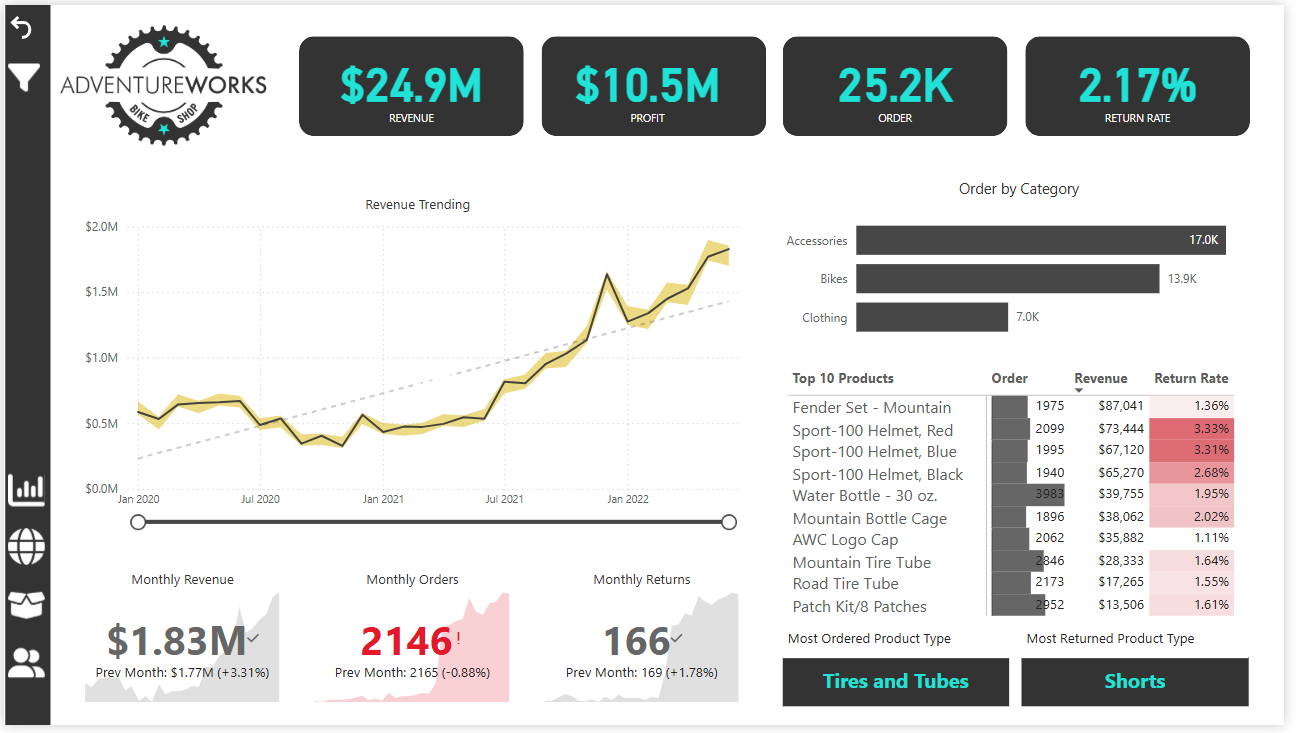

The dashboard page shown, as its layout file describes it:
{"tool":"powerbi","page":{"name":"Exec Dashboard","canvas":[1280,720],"ordinal":0},"visuals":[{"type":"card","fields":{"Values":["Measure Table.Total Revenue"]},"box":[267.5,6.2,280,150],"z":0,"group":"g2"},{"type":"image","title":"AW Logo","box":[20,12.5,280,136.2],"z":0},{"type":"group","id":"g1","title":"KPI Background","box":[295,31.2,951.2,100],"z":0,"group":"g3"},{"type":"shape","box":[537.1,31.2,225,100],"z":0,"group":"g1"},{"type":"actionButton","box":[0,461.2,45.2,47.7],"z":0,"group":"g4"},{"type":"shape","title":"Left Nav","box":[1.2,0,45.2,720.2],"z":1000},{"type":"group","id":"g2","title":"KPI Values","box":[267.5,6.2,1006.2,150],"z":1000,"group":"g3"},{"type":"card","fields":{"Values":["Measure Table.Total Profit"]},"box":[503.7,6.2,280,150],"z":1000,"group":"g2"},{"type":"shape","box":[779.2,31.2,225,100],"z":1000,"group":"g1"},{"type":"actionButton","box":[407.9,297.6,45.2,47.7],"z":1000,"group":"g5"},{"type":"actionButton","box":[0,517.5,45.2,47.7],"z":1000,"group":"g4"},{"type":"group","id":"g3","title":"KPI","box":[267.5,6.2,1006.2,150],"z":2000},{"type":"card","fields":{"Values":["Measure Table.Total Order"]},"box":[751.3,6.2,280,150],"z":2000,"group":"g2"},{"type":"shape","box":[295,31.2,225,100],"z":2000,"group":"g1"},{"type":"actionButton","box":[407.9,356.3,45.2,47.7],"z":2000,"group":"g5"},{"type":"actionButton","box":[0,576.1,45.2,47.7],"z":2000,"group":"g4"},{"type":"card","fields":{"Values":["Measure Table.Return Rate"]},"box":[993.7,6.2,280,150],"z":3000,"group":"g2"},{"type":"shape","box":[1021.2,31.2,225,100],"z":3000,"group":"g1"},{"type":"lineChart","title":"Revenue Trending","fields":{"Y":["Measure Table.Total Revenue"],"Category":["Calendar Lookup.Start of Month"]},"box":[75.9,189.9,674.9,338.1],"z":3000},{"type":"actionButton","box":[0,633.6,45.2,47.7],"z":3000,"group":"g4"},{"type":"kpi","title":"Monthly Revenue","fields":{"Indicator":["Measure Table.Total Revenue"],"TrendLine":["Calendar Lookup.Start of Month"],"Goal":["Measure Table.Previous Month Revenue"]},"box":[75.9,564.7,204.6,137.2],"z":4000},{"type":"kpi","title":"Monthly Returns","fields":{"TrendLine":["Calendar Lookup.Start of Month"],"Indicator":["Measure Table.Total Returned"],"Goal":["Measure Table.Previous Month Returns"]},"box":[536.5,564.7,203.3,137.2],"z":5000},{"type":"kpi","title":"Monthly Orders","fields":{"TrendLine":["Calendar Lookup.Start of Month"],"Indicator":["Measure Table.Total Order"],"Goal":["Measure Table.Previous Month Orders"]},"box":[306.2,564.7,204.6,137.2],"z":6000},{"type":"clusteredBarChart","title":"Order by Category","fields":{"Category":["Product Categories Lookup.CategoryName"],"Y":["Measure Table.Total Order"]},"box":[772.4,172,485.1,176.4],"z":7000},{"type":"pivotTable","fields":{"Rows":["Product Lookup.ProductName"],"Values":["Measure Table.Total Order","Measure Table.Total Revenue","Measure Table.Return Rate"]},"box":[772.8,358.3,479.4,260.5],"z":8000},{"type":"card","fields":{"Values":["Min(Product Subcategories Lookup.SubcategoryName)"]},"box":[778.9,653,226.2,48.9],"z":9000},{"type":"textbox","box":[779,618.6,226.6,34.3],"z":10000},{"type":"card","fields":{"Values":["Min(Product Subcategories Lookup.SubcategoryName)"]},"box":[1017.4,653,227.4,48.9],"z":11000},{"type":"textbox","box":[1017.4,618.8,226.2,34.2],"z":12000},{"type":"actionButton","box":[1.2,6.1,45.2,31.8],"z":13000},{"type":"group","id":"g4","title":"Group 1","box":[0,461.2,45,218.8],"z":14000},{"type":"actionButton","box":[0,52.6,46.5,40.4],"z":15000},{"type":"group","id":"g5","title":"Group 1","box":[407.9,297.6,45.2,106.4],"z":16000}]}

Visuals, with their boxes on the page's 1280x720 design canvas (x1, y1, x2, y2). These are canvas units, not pixel positions in the 1298x733 screenshot, which may show the page scaled, cropped or inside an application window:
card - Measure Table.Total Revenue: <bbox>268, 6, 548, 156</bbox>
"AW Logo" image: <bbox>20, 12, 300, 149</bbox>
"KPI Background" group: <bbox>295, 31, 1246, 131</bbox>
shape: <bbox>537, 31, 762, 131</bbox>
actionButton: <bbox>0, 461, 45, 509</bbox>
"Left Nav" shape: <bbox>1, 0, 46, 720</bbox>
"KPI Values" group: <bbox>268, 6, 1274, 156</bbox>
card - Measure Table.Total Profit: <bbox>504, 6, 784, 156</bbox>
shape: <bbox>779, 31, 1004, 131</bbox>
actionButton: <bbox>408, 298, 453, 345</bbox>
actionButton: <bbox>0, 518, 45, 565</bbox>
"KPI" group: <bbox>268, 6, 1274, 156</bbox>
card - Measure Table.Total Order: <bbox>751, 6, 1031, 156</bbox>
shape: <bbox>295, 31, 520, 131</bbox>
actionButton: <bbox>408, 356, 453, 404</bbox>
actionButton: <bbox>0, 576, 45, 624</bbox>
card - Measure Table.Return Rate: <bbox>994, 6, 1274, 156</bbox>
shape: <bbox>1021, 31, 1246, 131</bbox>
"Revenue Trending" lineChart: <bbox>76, 190, 751, 528</bbox>
actionButton: <bbox>0, 634, 45, 681</bbox>
"Monthly Revenue" kpi: <bbox>76, 565, 280, 702</bbox>
"Monthly Returns" kpi: <bbox>536, 565, 740, 702</bbox>
"Monthly Orders" kpi: <bbox>306, 565, 511, 702</bbox>
"Order by Category" clusteredBarChart: <bbox>772, 172, 1258, 348</bbox>
pivotTable - Product Lookup.ProductName x Measure Table.Total Order: <bbox>773, 358, 1252, 619</bbox>
card - Min(Product Subcategories Lookup.SubcategoryName): <bbox>779, 653, 1005, 702</bbox>
textbox: <bbox>779, 619, 1006, 653</bbox>
card - Min(Product Subcategories Lookup.SubcategoryName): <bbox>1017, 653, 1245, 702</bbox>
textbox: <bbox>1017, 619, 1244, 653</bbox>
actionButton: <bbox>1, 6, 46, 38</bbox>
"Group 1" group: <bbox>0, 461, 45, 680</bbox>
actionButton: <bbox>0, 53, 46, 93</bbox>
"Group 1" group: <bbox>408, 298, 453, 404</bbox>
